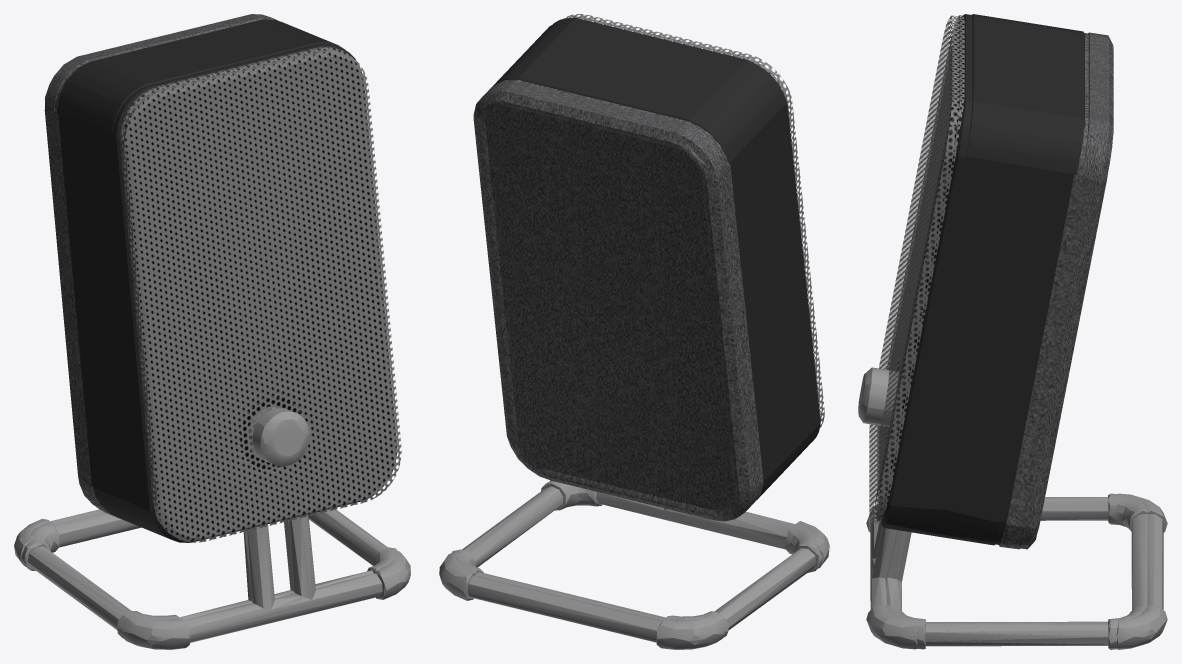
File: Parlantes.glb
3 renders of one model, left to right at view 1: azimuth 30°, elevation 25°; view 2: azimuth 150°, elevation 25°; view 3: azimuth 270°, elevation 25°, orthographic.
Parts seen in each view (by area): view 1: 2b0cf3ea-a437-4166-a0a8-2d8a5b60373a (×2), 1b258198-10a0-489d-9b4d-3e7d1ebca8fe (×2), 4efe712d-8536-48de-bc94-409b42992071, 5efe9db7-aa79-4ad0-9bb8-76182a4276d6, e0ba5fc4-891e-4b18-b4f8-84d3660fe909, 27f2fc5b-bf0e-4c3e-9c28-d66079b72f16, 0a5b0ecd-ec69-43ae-9b0d-804a20954a5c, da549fb5-9d73-4922-8f4c-a54fff100b92, 84b8be2b-c206-4382-9f25-5031ab3e6f1a, d3513879-2901-4d4b-84e6-108f253cc5b8, 260dab8b-49e3-48e5-a62e-d4a2cbff902b, 259c35a0-d808-43a8-94dd-b627f797c052 (+1 smaller); view 2: 0a5b0ecd-ec69-43ae-9b0d-804a20954a5c, 5efe9db7-aa79-4ad0-9bb8-76182a4276d6, e0ba5fc4-891e-4b18-b4f8-84d3660fe909, da549fb5-9d73-4922-8f4c-a54fff100b92, 27f2fc5b-bf0e-4c3e-9c28-d66079b72f16, 84b8be2b-c206-4382-9f25-5031ab3e6f1a, 2b0cf3ea-a437-4166-a0a8-2d8a5b60373a (×2), 26554e08-d6e8-4637-abc8-28b73ee63a9a, 1b258198-10a0-489d-9b4d-3e7d1ebca8fe, 67ea31da-7094-4b6a-826f-61acfdc895d4, ba70e484-64d8-4b2a-a41d-f0621dcbde4d, ac0bfb4c-e7c6-4c98-80bb-2a893d1241fb; view 3: e0ba5fc4-891e-4b18-b4f8-84d3660fe909, 5efe9db7-aa79-4ad0-9bb8-76182a4276d6, 2b0cf3ea-a437-4166-a0a8-2d8a5b60373a (×2), 0a5b0ecd-ec69-43ae-9b0d-804a20954a5c, 84b8be2b-c206-4382-9f25-5031ab3e6f1a, 27f2fc5b-bf0e-4c3e-9c28-d66079b72f16, 1b258198-10a0-489d-9b4d-3e7d1ebca8fe (×2), da549fb5-9d73-4922-8f4c-a54fff100b92, d3513879-2901-4d4b-84e6-108f253cc5b8, 4efe712d-8536-48de-bc94-409b42992071, 67ea31da-7094-4b6a-826f-61acfdc895d4, 259c35a0-d808-43a8-94dd-b627f797c052 (+3 smaller).
Boxes of the visible parts, left/top/right/bottom form: 2b0cf3ea-a437-4166-a0a8-2d8a5b60373a (×2): left=121, top=50, right=401, bottom=542; 1b258198-10a0-489d-9b4d-3e7d1ebca8fe (×2): left=120, top=47, right=397, bottom=539; 4efe712d-8536-48de-bc94-409b42992071: left=124, top=52, right=394, bottom=538; 5efe9db7-aa79-4ad0-9bb8-76182a4276d6: left=57, top=19, right=344, bottom=510; e0ba5fc4-891e-4b18-b4f8-84d3660fe909: left=61, top=43, right=396, bottom=542; 27f2fc5b-bf0e-4c3e-9c28-d66079b72f16: left=28, top=509, right=387, bottom=642; 0a5b0ecd-ec69-43ae-9b0d-804a20954a5c: left=44, top=14, right=277, bottom=506; da549fb5-9d73-4922-8f4c-a54fff100b92: left=27, top=509, right=385, bottom=629; 84b8be2b-c206-4382-9f25-5031ab3e6f1a: left=49, top=19, right=261, bottom=517; d3513879-2901-4d4b-84e6-108f253cc5b8: left=248, top=406, right=309, bottom=466; 260dab8b-49e3-48e5-a62e-d4a2cbff902b: left=121, top=615, right=189, bottom=649; 259c35a0-d808-43a8-94dd-b627f797c052: left=372, top=550, right=410, bottom=599; 0a5b0ecd-ec69-43ae-9b0d-804a20954a5c: left=473, top=81, right=759, bottom=521; 5efe9db7-aa79-4ad0-9bb8-76182a4276d6: left=493, top=21, right=795, bottom=493; e0ba5fc4-891e-4b18-b4f8-84d3660fe909: left=553, top=18, right=820, bottom=499; da549fb5-9d73-4922-8f4c-a54fff100b92: left=464, top=486, right=815, bottom=642; 27f2fc5b-bf0e-4c3e-9c28-d66079b72f16: left=462, top=486, right=815, bottom=627; 84b8be2b-c206-4382-9f25-5031ab3e6f1a: left=496, top=80, right=763, bottom=513; 2b0cf3ea-a437-4166-a0a8-2d8a5b60373a (×2): left=563, top=14, right=824, bottom=427; 26554e08-d6e8-4637-abc8-28b73ee63a9a: left=656, top=614, right=724, bottom=649; 1b258198-10a0-489d-9b4d-3e7d1ebca8fe: left=566, top=16, right=820, bottom=419; 67ea31da-7094-4b6a-826f-61acfdc895d4: left=439, top=552, right=475, bottom=600; ba70e484-64d8-4b2a-a41d-f0621dcbde4d: left=541, top=481, right=602, bottom=510; ac0bfb4c-e7c6-4c98-80bb-2a893d1241fb: left=785, top=524, right=822, bottom=572; e0ba5fc4-891e-4b18-b4f8-84d3660fe909: left=880, top=14, right=1067, bottom=545; 5efe9db7-aa79-4ad0-9bb8-76182a4276d6: left=899, top=14, right=1085, bottom=544; 2b0cf3ea-a437-4166-a0a8-2d8a5b60373a (×2): left=869, top=15, right=960, bottom=523; 0a5b0ecd-ec69-43ae-9b0d-804a20954a5c: left=1020, top=32, right=1113, bottom=549; 84b8be2b-c206-4382-9f25-5031ab3e6f1a: left=999, top=33, right=1092, bottom=549; 27f2fc5b-bf0e-4c3e-9c28-d66079b72f16: left=870, top=497, right=1147, bottom=645; 1b258198-10a0-489d-9b4d-3e7d1ebca8fe (×2): left=877, top=15, right=964, bottom=522; da549fb5-9d73-4922-8f4c-a54fff100b92: left=885, top=497, right=1163, bottom=646; d3513879-2901-4d4b-84e6-108f253cc5b8: left=858, top=367, right=898, bottom=426; 4efe712d-8536-48de-bc94-409b42992071: left=879, top=19, right=960, bottom=518; 67ea31da-7094-4b6a-826f-61acfdc895d4: left=1116, top=605, right=1167, bottom=649; 259c35a0-d808-43a8-94dd-b627f797c052: left=866, top=605, right=917, bottom=649.
Size of the model in its own units: 0.138 by 0.244 by 0.1301.
Materials: 9 (4 with a texture image).
